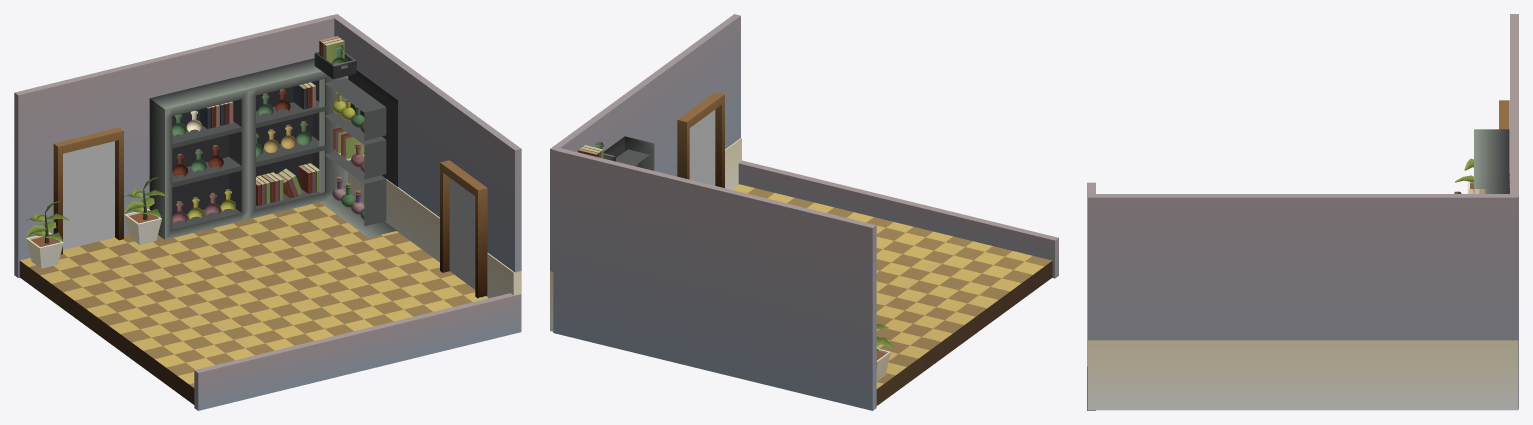
Rendered from base_shop.glb.
The picture shows the model from 3 angles, left to right: view 1: azimuth 30°, elevation 25°; view 2: azimuth 150°, elevation 25°; view 3: azimuth 270°, elevation 25°; orthographic projection. The views are drawn at different scales.
Parts seen in each view (by area): view 1: base_shop, rak_01, rak_extend, rak_03, pintu_01, pintu_02, Pot_02, Pot_01, kotak_buku; view 2: base_shop, pintu_02, rak_03, Pot_01; view 3: base_shop, rak_01, rak_extend.
Part boxes in pixels (box(x1,y1,x2,y2)): base_shop: box(14, 14, 521, 410); rak_01: box(149, 78, 248, 239); rak_extend: box(234, 58, 347, 219); rak_03: box(319, 70, 397, 237); pintu_01: box(53, 127, 123, 254); pintu_02: box(440, 160, 487, 298); Pot_02: box(124, 177, 167, 244); Pot_01: box(26, 201, 69, 268); kotak_buku: box(314, 36, 356, 79); base_shop: box(550, 14, 1058, 410); pintu_02: box(677, 92, 724, 187); rak_03: box(603, 136, 654, 170); Pot_01: box(876, 324, 893, 381); base_shop: box(1087, 14, 1518, 410); rak_01: box(1474, 129, 1509, 193); rak_extend: box(1474, 177, 1509, 193).
Bounding box in the file's own units: 3.43 × 1.83 × 3.36.
2 materials, 1 textured.
